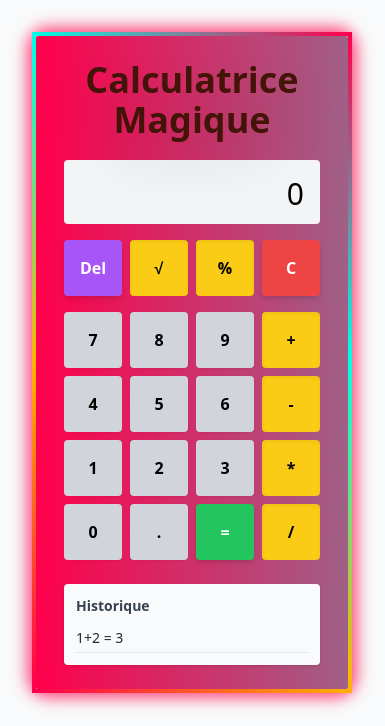
it: Calculatrice › réinitialise avec C
// Tape "1"
Click the button "1" at (93, 468), box [64,440,122,496]
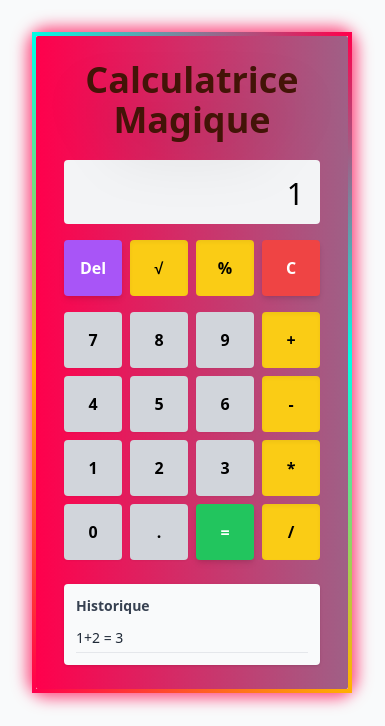
Expected: the text with test id "display" reads "1", [287,173,304,214]
// Réinitialise à 0
Click the button "C" at (291, 268), box [262,240,320,296]
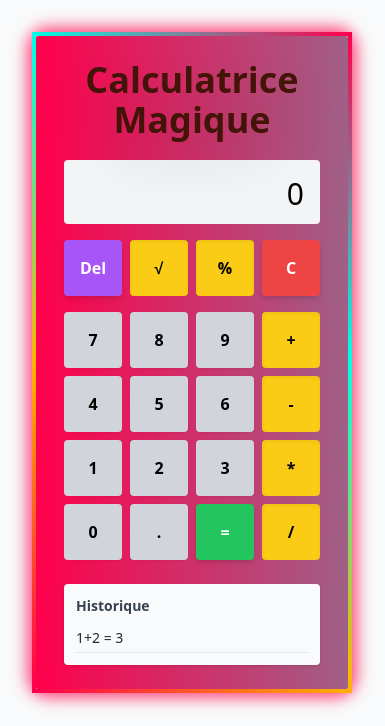
Expected: the text with test id "display" reads "0", [287,173,304,214]
